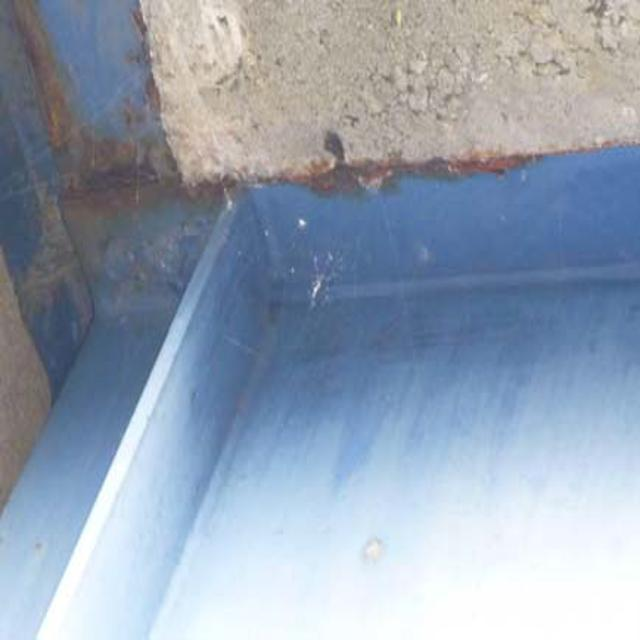corrosion: (16, 12, 204, 217), (230, 132, 529, 198)
